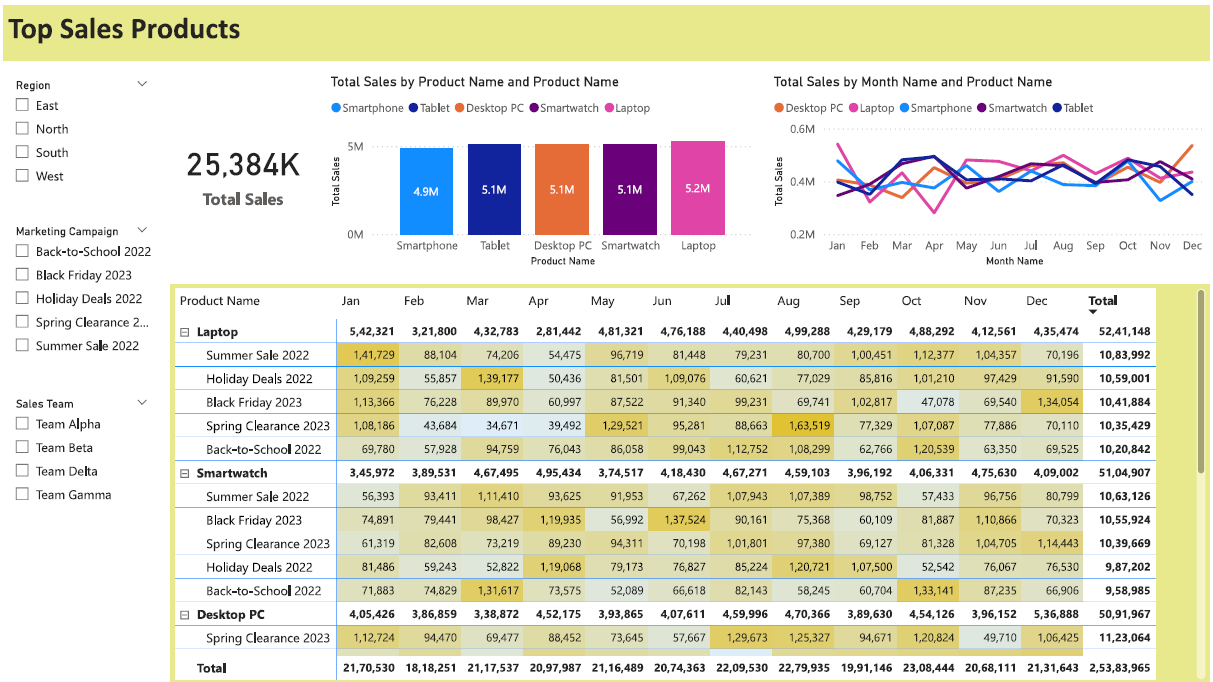

What the dashboard file says about the page in this screenshot:
{"tool":"powerbi","page":{"name":"Page 1","canvas":[1280,720],"ordinal":0},"visuals":[{"type":"textbox","box":[0,0,1280.5,58.5],"z":0},{"type":"slicer","fields":{"Values":["ExampleData_TopSellingProducts.Region"]},"box":[0,73.2,165.4,143.4],"z":1000},{"type":"slicer","fields":{"Values":["ExampleData_TopSellingProducts.Marketing Campaign"]},"box":[0,228.3,165.4,172.7],"z":2000},{"type":"slicer","fields":{"Values":["ExampleData_TopSellingProducts.Sales Team"]},"box":[0,411.2,165.4,140.5],"z":3000},{"type":"card","fields":{"Values":["ExampleData_TopSellingProducts.Total Sales"]},"box":[175.6,73.2,156.6,209.3],"z":4000},{"type":"columnChart","fields":{"Y":["ExampleData_TopSellingProducts.Total Sales"],"Category":["ExampleData_TopSellingProducts.Product Name"],"Series":["ExampleData_TopSellingProducts.Product Name"]},"box":[342.4,73.2,458,209.3],"z":5000},{"type":"lineChart","fields":{"Y":["ExampleData_TopSellingProducts.Total Sales"],"Series":["ExampleData_TopSellingProducts.Product Name"],"Category":["Date.Month Name"]},"box":[812.2,73.2,468.3,209.3],"z":6000},{"type":"pivotTable","fields":{"Values":["ExampleData_TopSellingProducts.Total Sales"],"Rows":["ExampleData_TopSellingProducts.Product Name","ExampleData_TopSellingProducts.Marketing Campaign"],"Columns":["Date.Month Name"]},"box":[177.1,295.6,1103.4,424.4],"z":7000}]}

Visuals, with their boxes in screenshot pixels (x1, y1, x2, y2), scaled from the page's 1280x720 canvas onto the 1213x682 screenshot:
textbox: bbox=[0, 0, 1212, 55]
slicer - ExampleData_TopSellingProducts.Region: bbox=[0, 69, 157, 205]
slicer - ExampleData_TopSellingProducts.Marketing Campaign: bbox=[0, 216, 157, 380]
slicer - ExampleData_TopSellingProducts.Sales Team: bbox=[0, 389, 157, 523]
card - ExampleData_TopSellingProducts.Total Sales: bbox=[166, 69, 315, 268]
columnChart - ExampleData_TopSellingProducts.Total Sales x ExampleData_TopSellingProducts.Product Name: bbox=[324, 69, 759, 268]
lineChart - ExampleData_TopSellingProducts.Total Sales x ExampleData_TopSellingProducts.Product Name: bbox=[770, 69, 1212, 268]
pivotTable - ExampleData_TopSellingProducts.Total Sales x ExampleData_TopSellingProducts.Product Name: bbox=[168, 280, 1212, 681]
